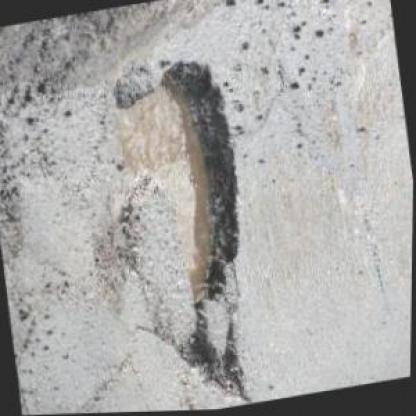pothole: (89, 51, 260, 326), (169, 314, 252, 410)
